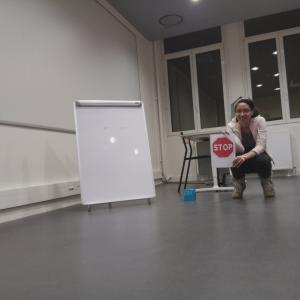big: (74, 99, 158, 208)
small: (183, 188, 197, 202)
